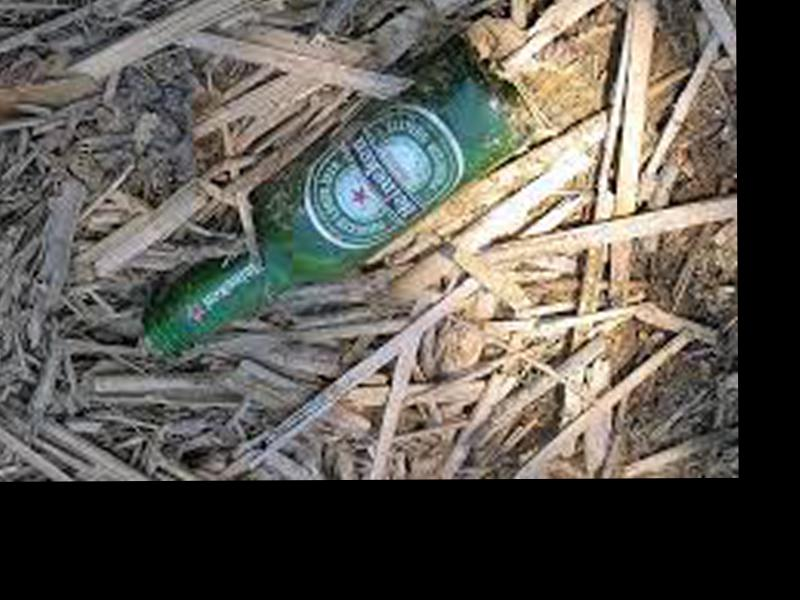Beer: (136, 39, 533, 353)
